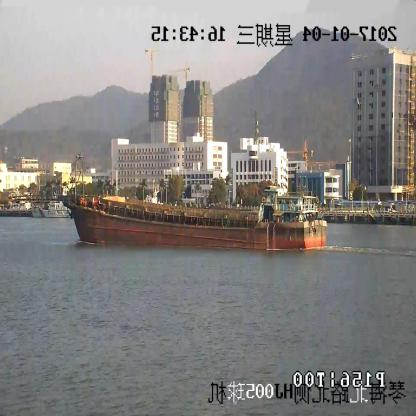Bulk Carrier: (15, 158, 328, 249)
